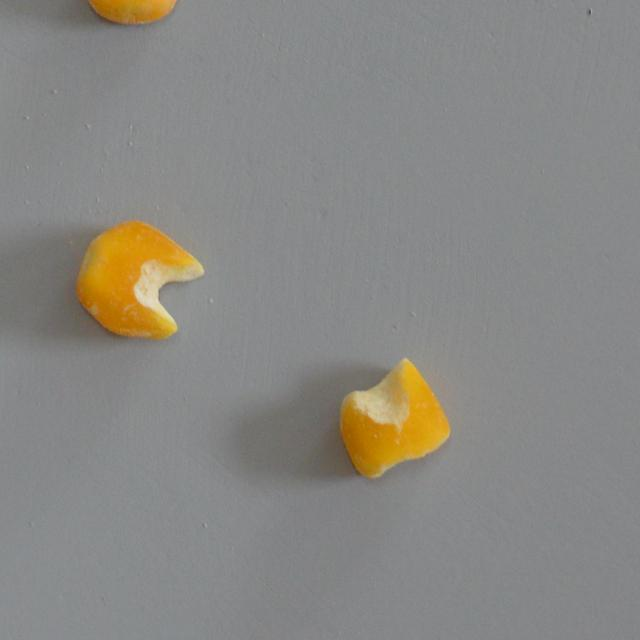no_canjicado: (338, 355, 450, 478)
pelicula: (76, 218, 204, 340), (82, 0, 177, 26)
